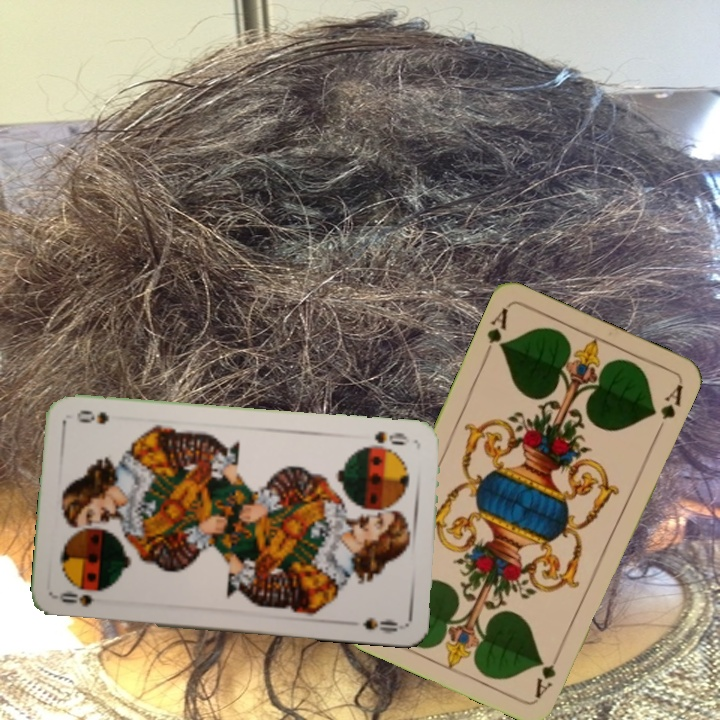GA: (531, 645, 564, 701), (480, 303, 511, 361)
SO: (358, 427, 412, 452), (56, 588, 96, 610)
